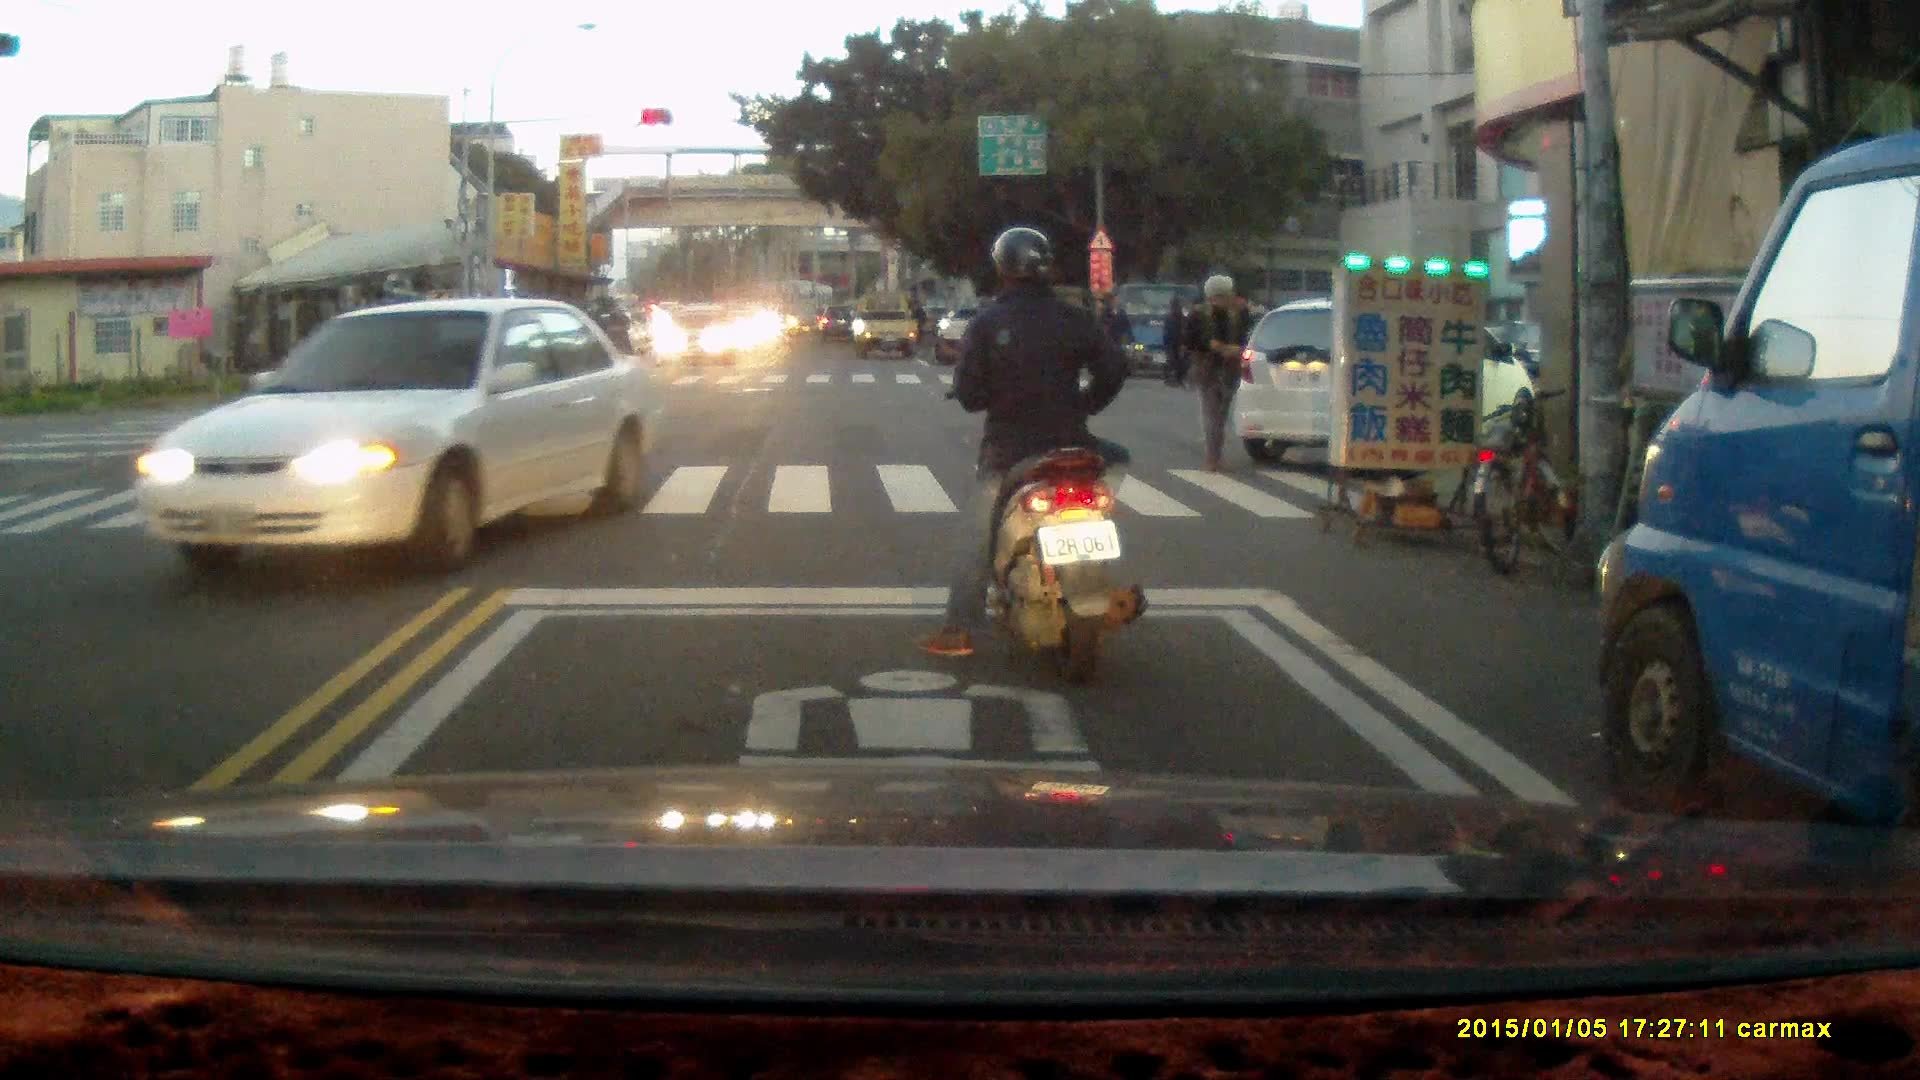pedestrian: (1184, 272, 1245, 473), (1095, 290, 1136, 389), (1161, 294, 1195, 391)
rider: (918, 229, 1149, 686), (593, 300, 631, 369)
vehicle: (1596, 120, 1920, 901), (121, 295, 662, 576), (1236, 303, 1533, 462), (659, 300, 739, 373), (852, 292, 921, 363)
